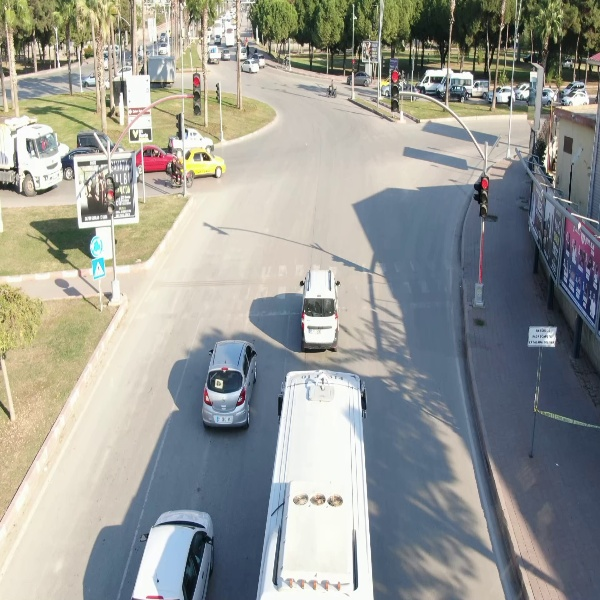car: (199, 338, 260, 433), (298, 268, 340, 352), (487, 86, 516, 106), (444, 82, 470, 104), (562, 89, 591, 107), (241, 58, 260, 75), (220, 46, 232, 62)
